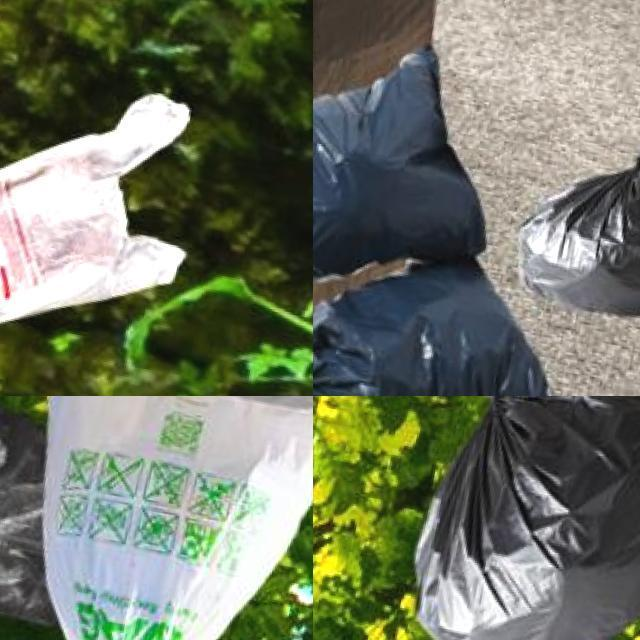waste: (0, 396, 313, 640), (313, 18, 537, 314), (0, 56, 207, 361), (394, 396, 640, 640), (313, 243, 584, 396), (512, 134, 640, 331), (0, 396, 67, 623)
